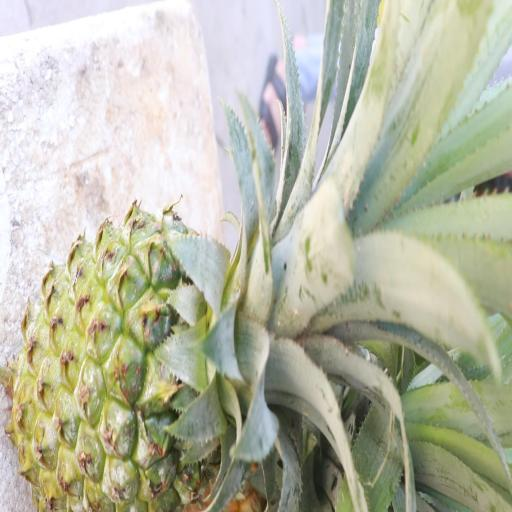------------------------------: (12, 213, 274, 512)
